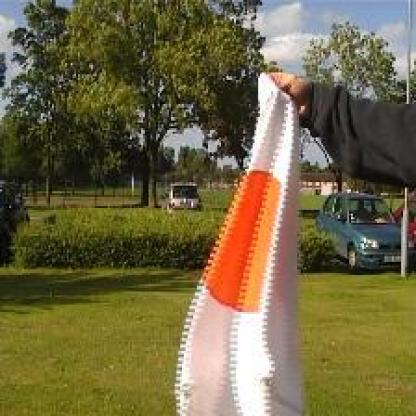other: (177, 156, 311, 320)
